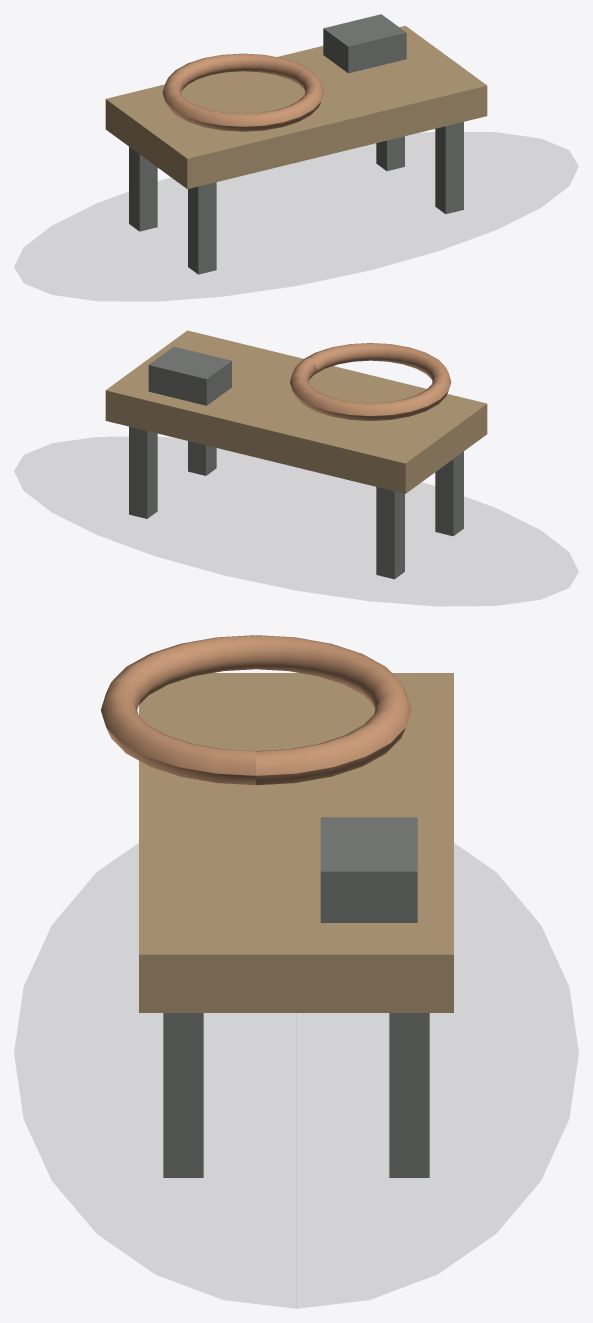
Rendered from workshop_bench.glb.
3 views of the same model, one above another, from view 1: azimuth 30°, elevation 25°; view 2: azimuth 150°, elevation 25°; view 3: azimuth 270°, elevation 25° (orthographic). The views are drawn at different scales.
Parts seen in each view (by area): view 1: baked_contact_shadow, bench_top, bench_leg (×4), loose_wheel, bench_vise; view 2: baked_contact_shadow, bench_top, bench_leg (×4), loose_wheel, bench_vise; view 3: baked_contact_shadow, bench_top, loose_wheel, bench_leg (×2), bench_vise.
Boxes of the visible parts, box(x1,y1,x2,y2) form: baked_contact_shadow: box(15, 132, 577, 300); bench_top: box(105, 25, 487, 189); bench_leg (×4): box(129, 122, 463, 274); loose_wheel: box(162, 53, 323, 131); bench_vise: box(323, 14, 406, 73); baked_contact_shadow: box(15, 437, 577, 605); bench_top: box(105, 330, 487, 493); bench_leg (×4): box(129, 426, 463, 579); loose_wheel: box(290, 343, 451, 420); bench_vise: box(148, 346, 231, 405); baked_contact_shadow: box(14, 844, 578, 1308); bench_top: box(139, 673, 453, 1012); loose_wheel: box(101, 635, 411, 785); bench_leg (×2): box(163, 1013, 429, 1177); bench_vise: box(320, 817, 417, 922).
Bounding box in the file's own units: 3 × 0.82 × 1.4.
